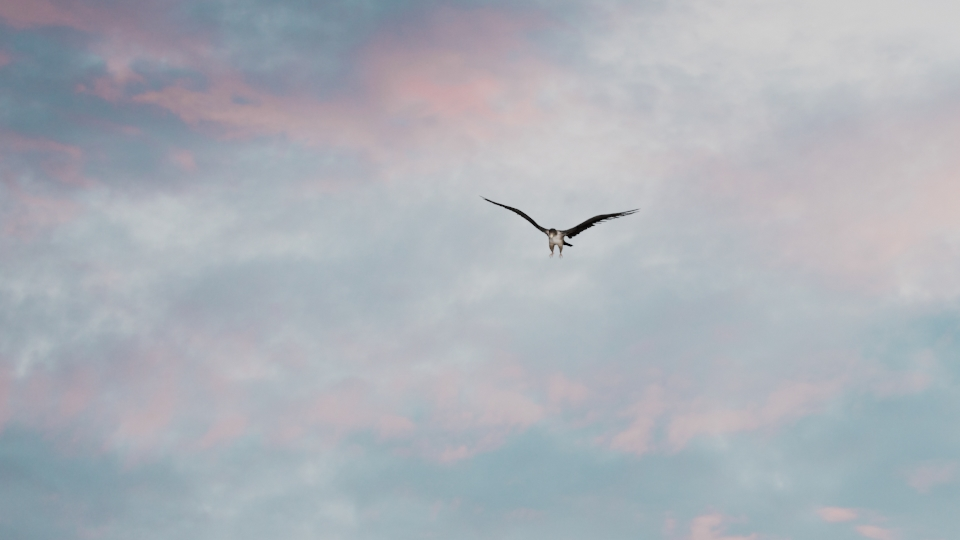bird: (479, 196, 643, 260)
